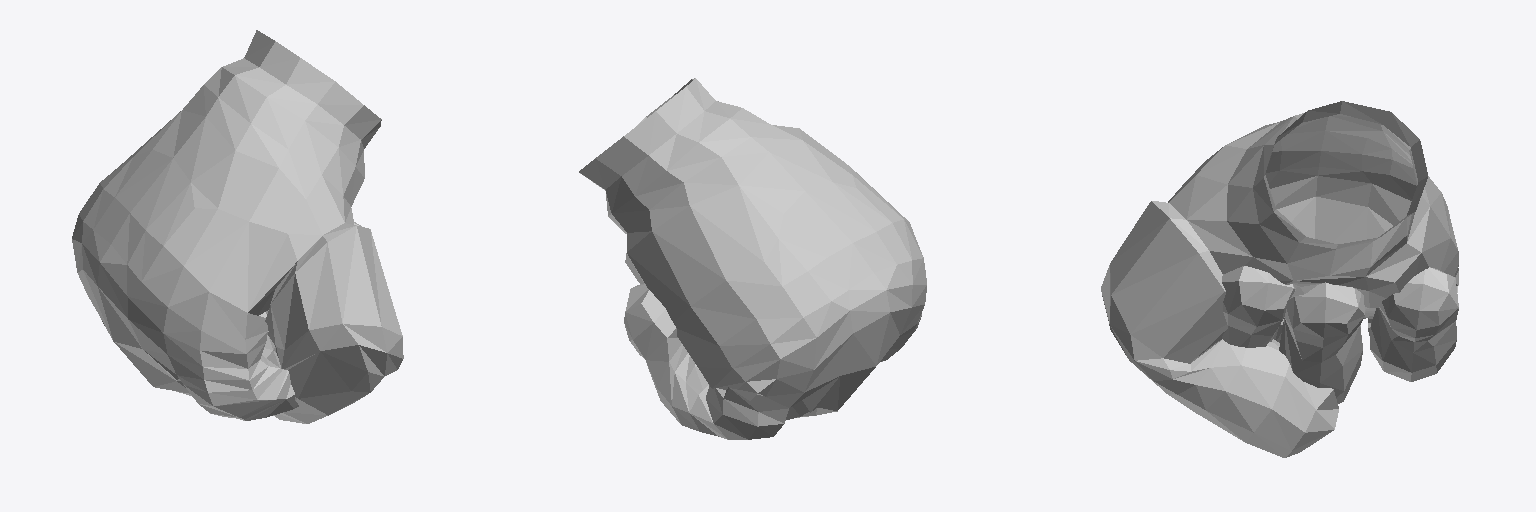
The model's file is Glove_Closed.obj.
3 views of the same model, side by side, from view 1: azimuth 30°, elevation 25°; view 2: azimuth 150°, elevation 25°; view 3: azimuth 270°, elevation 25° (orthographic).
Visible parts, largest first — view 1: polySurface1119polySurface703; view 2: polySurface1119polySurface703; view 3: polySurface1119polySurface703.
Part boxes in pixels (x1,y1,x2,y2): polySurface1119polySurface703: (72, 30, 403, 423); polySurface1119polySurface703: (579, 78, 926, 439); polySurface1119polySurface703: (1101, 101, 1458, 457).
Bounding box in the file's own units: 18.31 × 22.41 × 20.26.